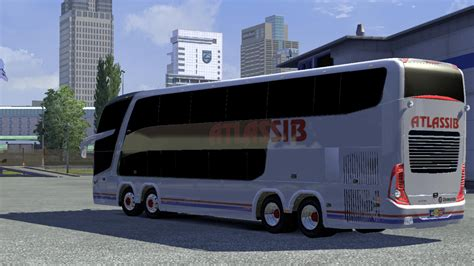bus: (95, 59, 465, 231)
